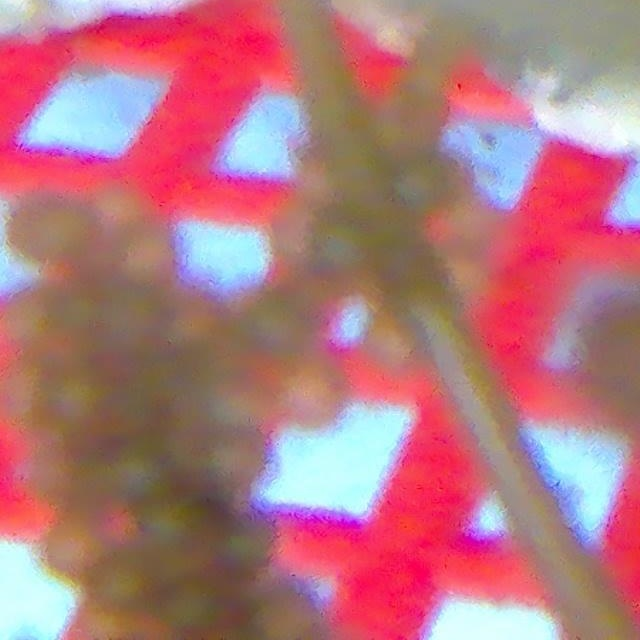SeaGrape: (300, 204, 380, 280), (240, 287, 320, 360), (384, 149, 458, 223), (101, 286, 171, 360), (99, 377, 170, 443), (35, 369, 101, 435), (159, 575, 223, 637), (42, 292, 106, 353), (100, 447, 163, 507), (257, 584, 326, 638), (223, 516, 283, 578), (92, 544, 146, 607)
